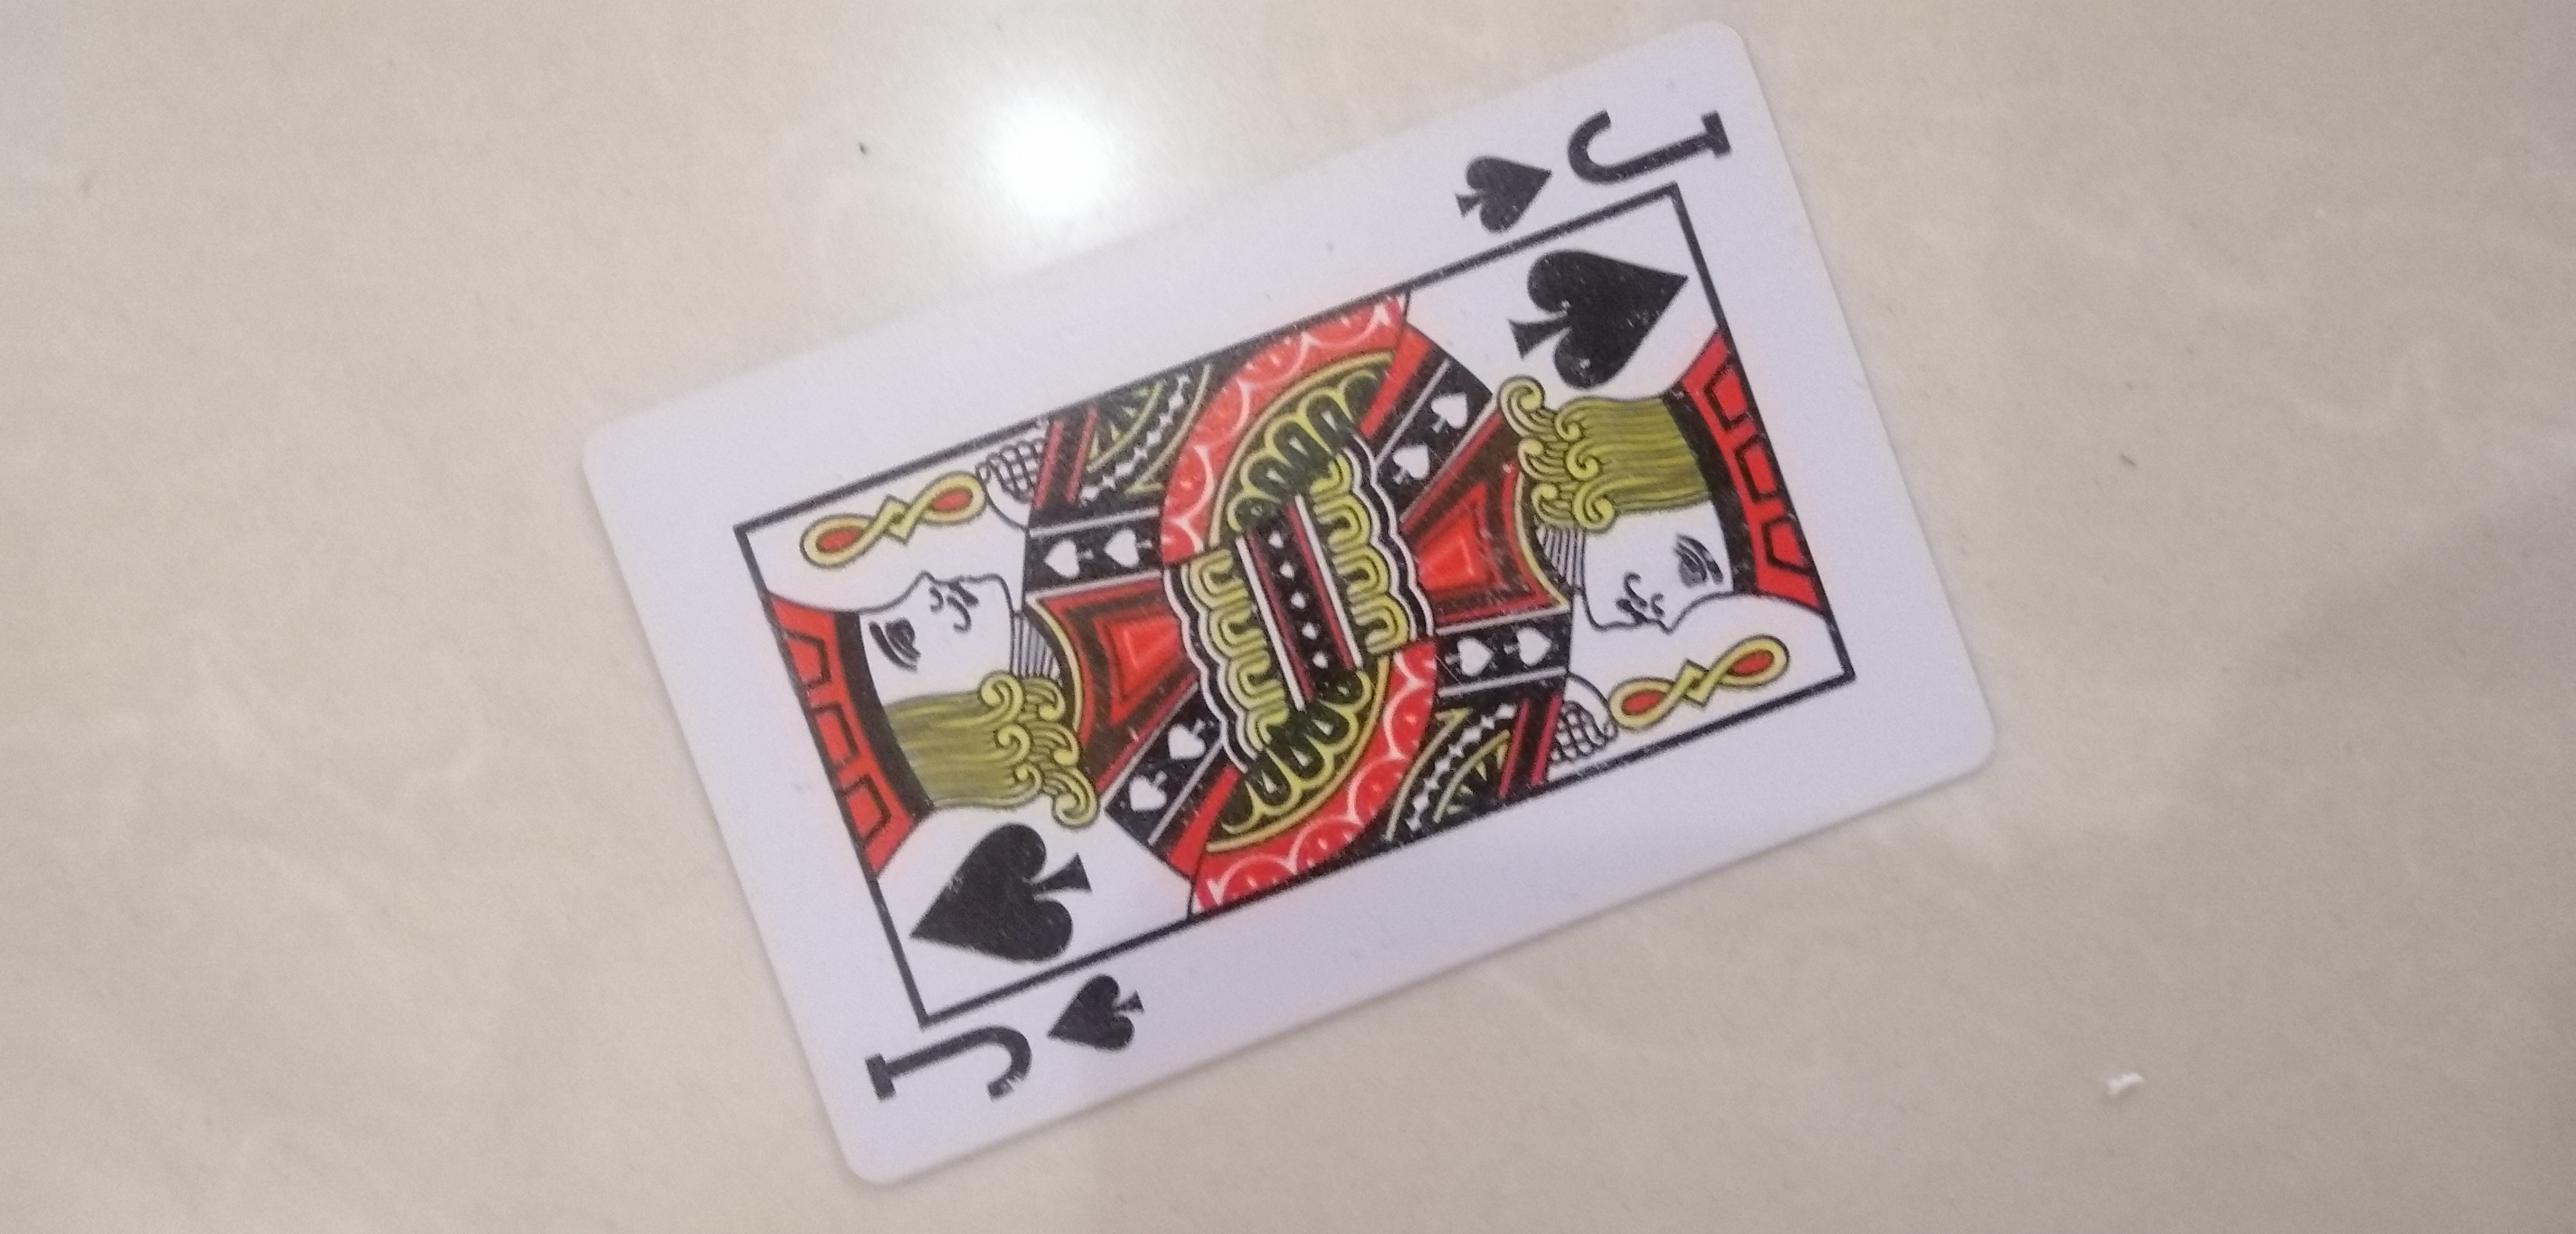jack: (578, 30, 1991, 1195)
